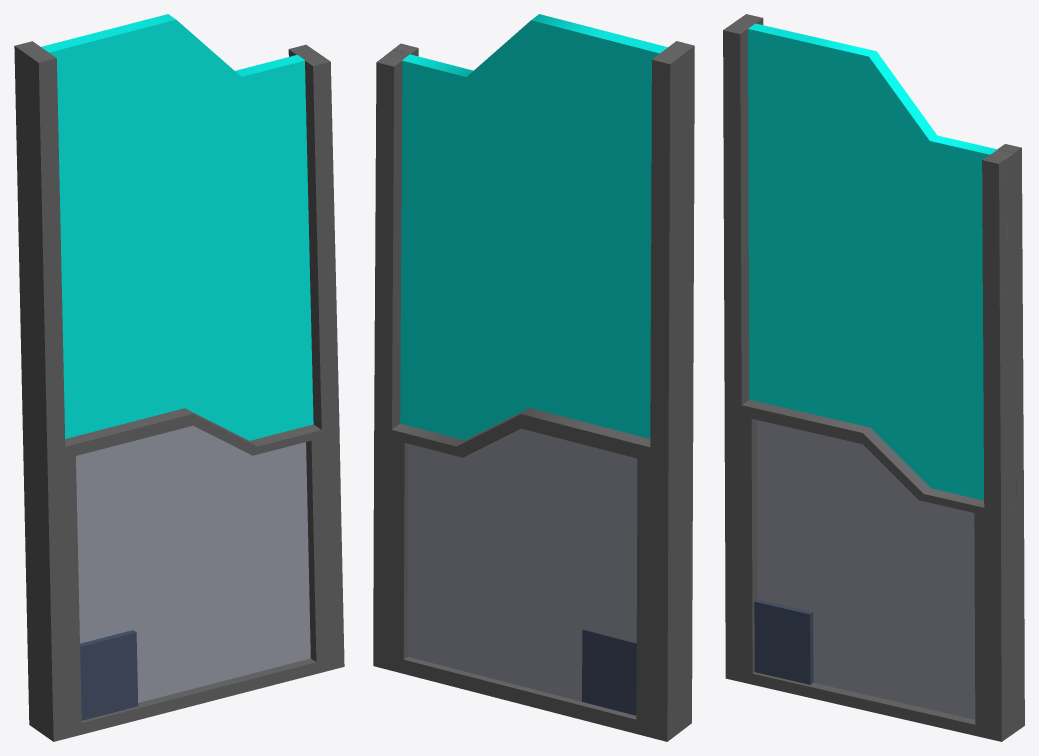
The model's file is card.fbx.
3 views of the same model, side by side, from view 1: azimuth 30°, elevation 25°; view 2: azimuth 150°, elevation 25°; view 3: azimuth 330°, elevation 25° (orthographic). The views are drawn at different scales.
Visible parts, largest first — view 1: Keycard; view 2: Keycard; view 3: Keycard.
Part boxes in pixels (x1,y1,x2,y2): Keycard: (14, 14, 344, 741); Keycard: (373, 14, 694, 741); Keycard: (723, 14, 1024, 741).
Bounding box in the file's own units: 4.7 × 10.17 × 0.8243.
